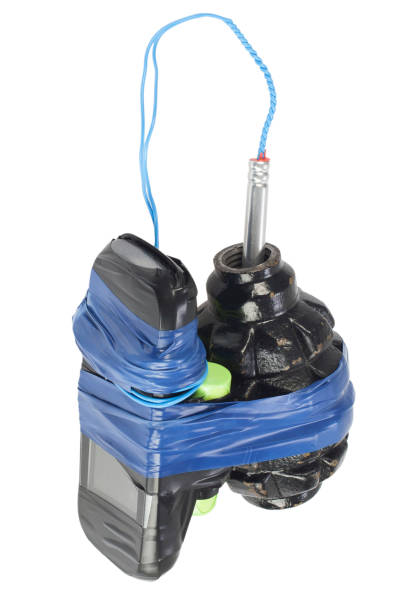e1: (194, 235, 352, 515)
